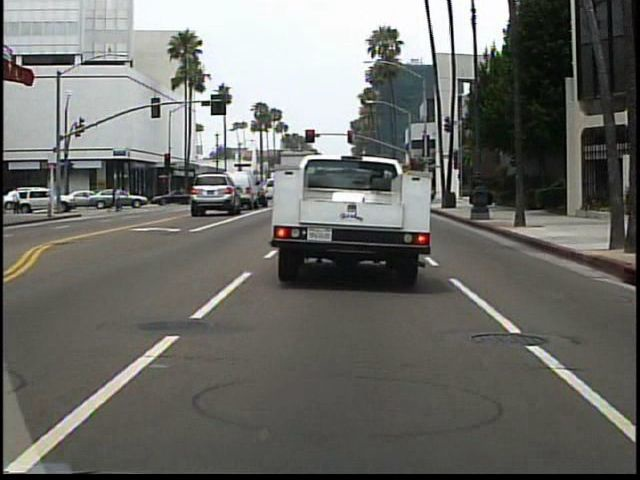person: (11, 182, 27, 215)
